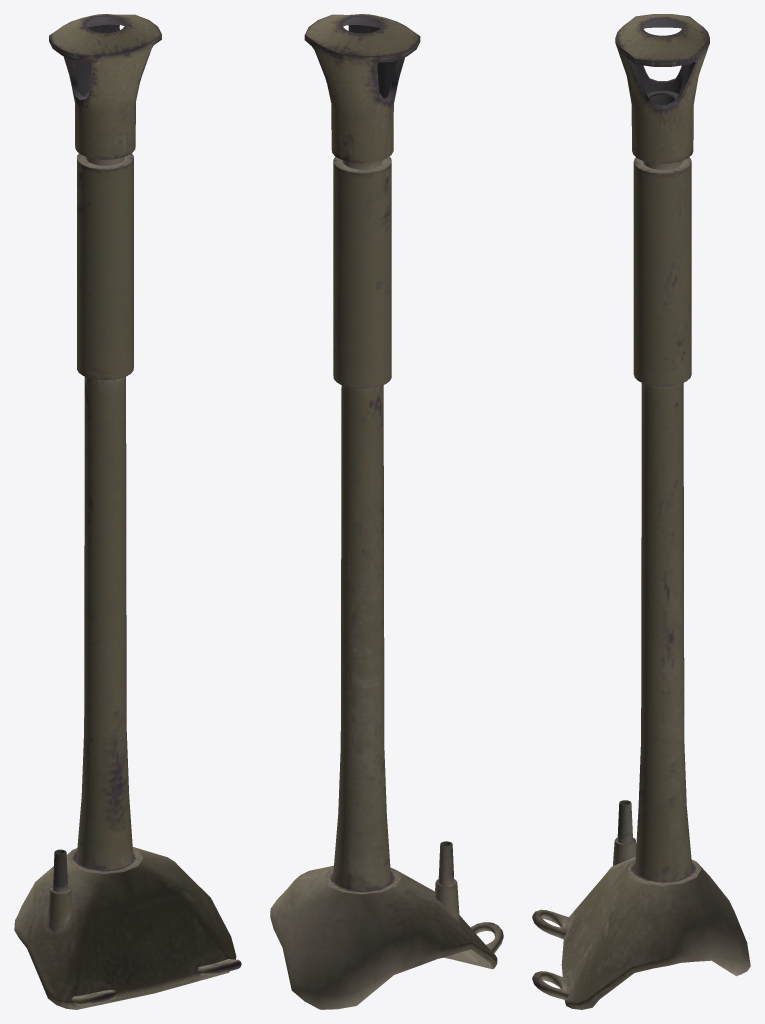
File: Gun_06.glb
The picture shows the model from 3 angles, left to right: view 1: azimuth 30°, elevation 25°; view 2: azimuth 150°, elevation 25°; view 3: azimuth 270°, elevation 25°; orthographic projection. The views are drawn at different scales.
Visible parts, largest first — view 1: set_0_group_0; view 2: set_0_group_0; view 3: set_0_group_0.
Boxes of the visible parts, x1,y1,x2,y2 form: set_0_group_0: (14,14,241,1009); set_0_group_0: (270,14,503,1009); set_0_group_0: (532,14,750,1009).
Size of the model in its own units: 0.7462 by 3.57 by 0.7505.
Materials: 1 (1 with a texture image).
